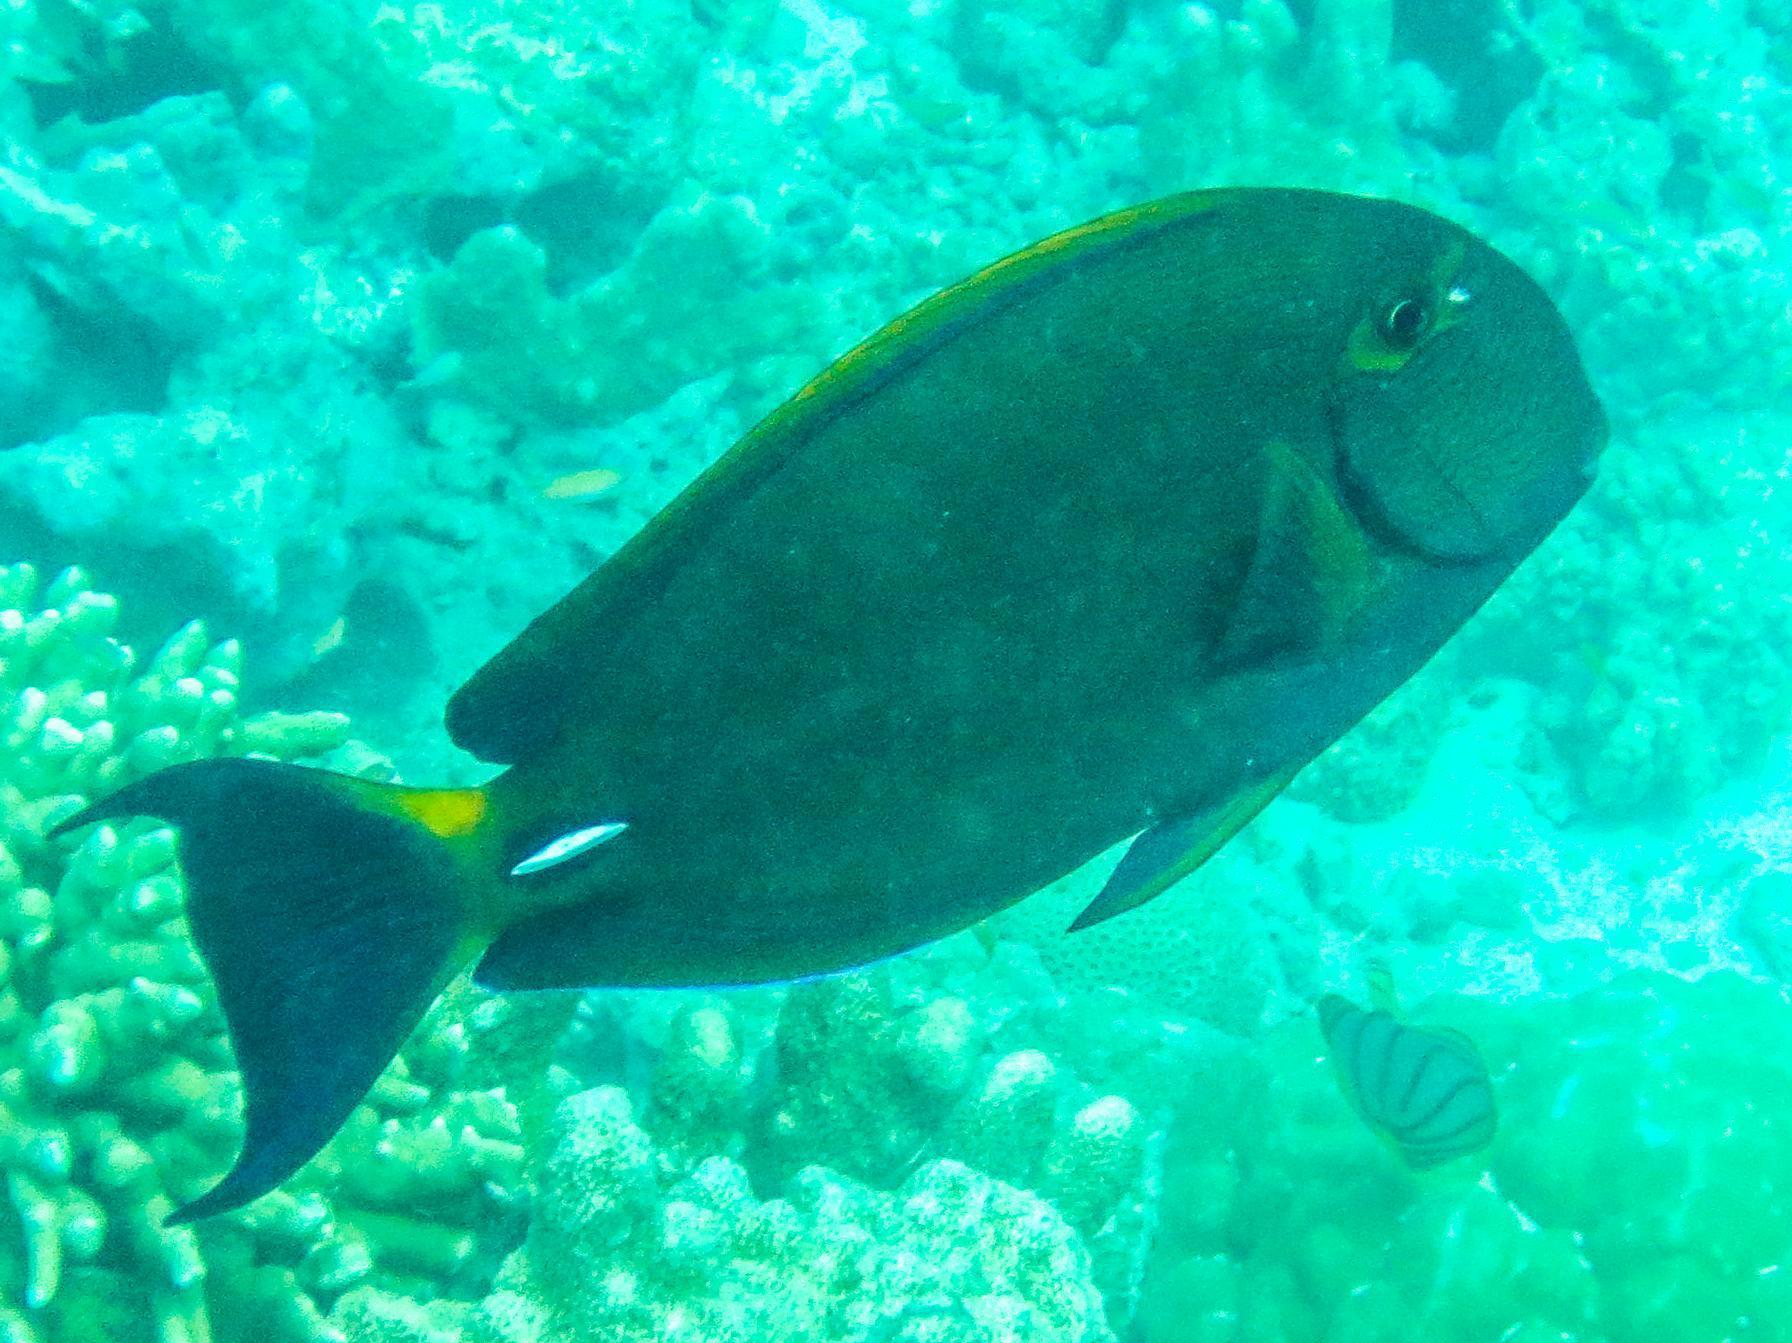Acanthurus dussumieri: (10, 124, 1690, 1282)
